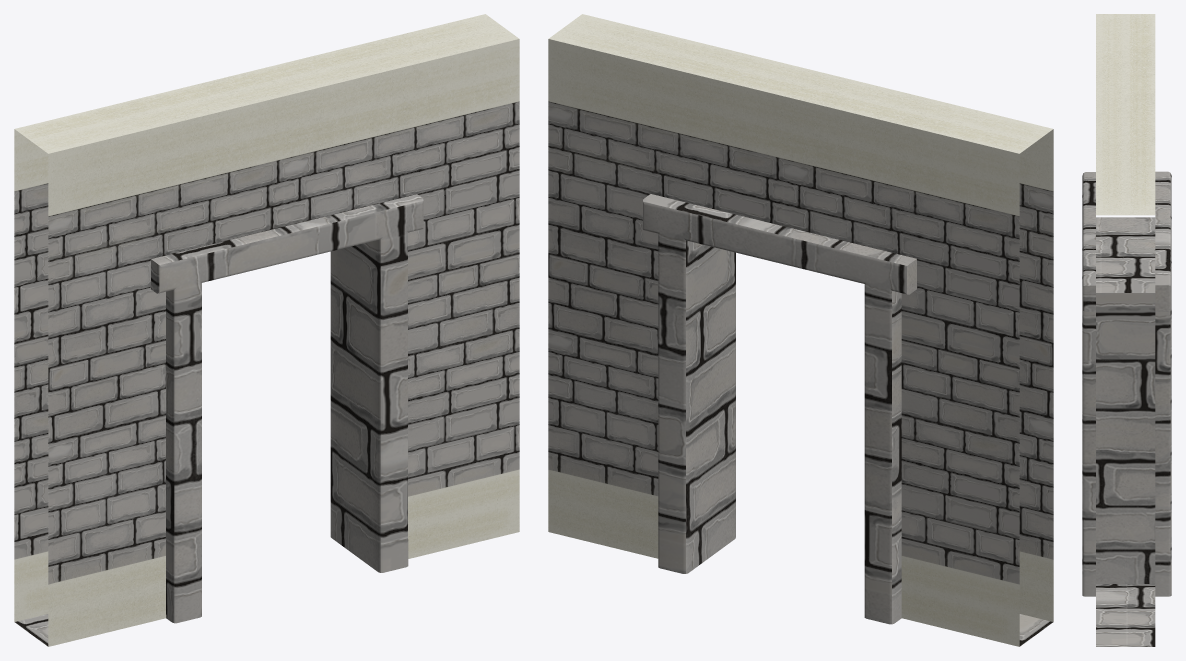
File: Door_Frame.fbx
3 renders of one model, left to right at view 1: azimuth 30°, elevation 25°; view 2: azimuth 150°, elevation 25°; view 3: azimuth 270°, elevation 25°, orthographic. The views are drawn at different scales.
Parts seen in each view (by area): view 1: pCube20; view 2: pCube20; view 3: pCube20.
Part boxes in pixels (x1=…): pCube20: x1=14, y1=14, x2=519, y2=646; pCube20: x1=548, y1=14, x2=1053, y2=646; pCube20: x1=1082, y1=14, x2=1171, y2=646.
Size of the model in its own units: 256 by 256 by 48.18.
